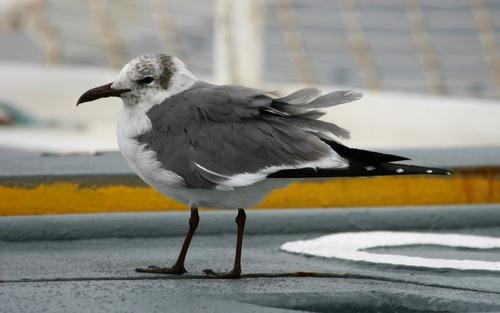bird: (74, 53, 431, 275)
